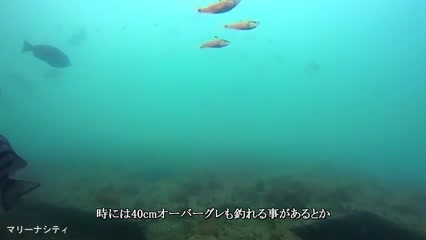smallfish: (17, 36, 79, 74), (226, 19, 268, 36), (194, 1, 245, 14), (199, 35, 231, 50)
